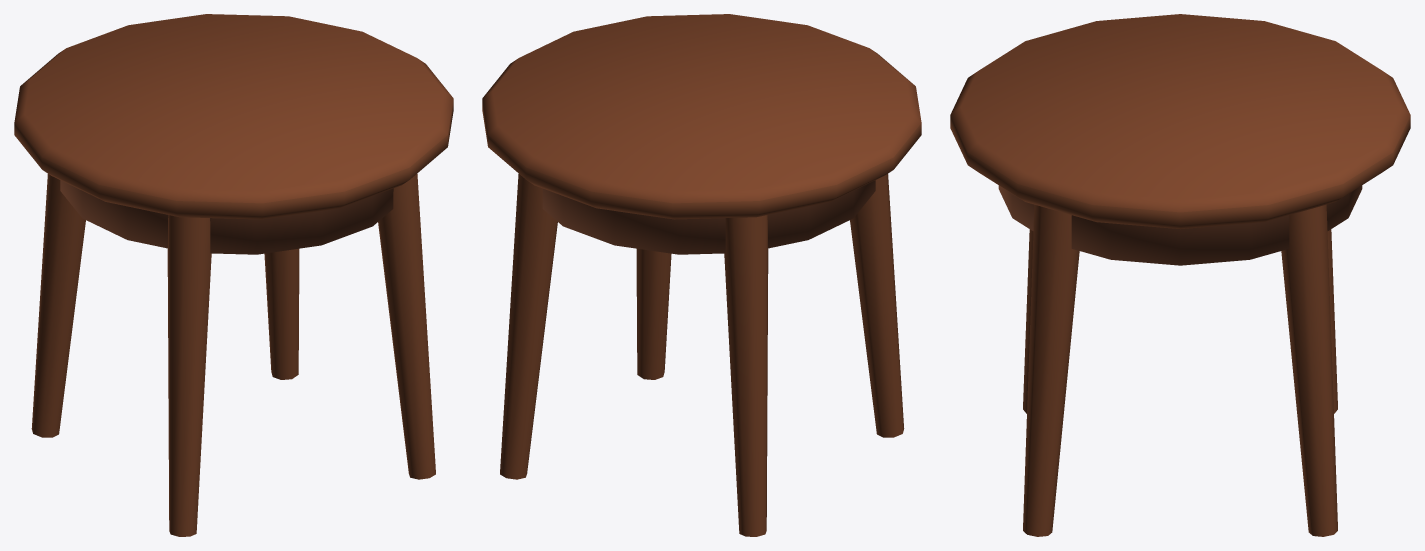
File: table-2.glb
3 renders of one model, left to right at view 1: azimuth 30°, elevation 25°; view 2: azimuth 150°, elevation 25°; view 3: azimuth 270°, elevation 25°, orthographic. The views are drawn at different scales.
Parts seen in each view (by area): view 1: table_2; view 2: table_2; view 3: table_2.
Part boxes in pixels (box(x1,y1,x2,y2)): table_2: box(14, 14, 453, 536); table_2: box(482, 14, 921, 536); table_2: box(950, 14, 1410, 536).
Bounding box in the file's own units: 1 × 0.8752 × 1.
